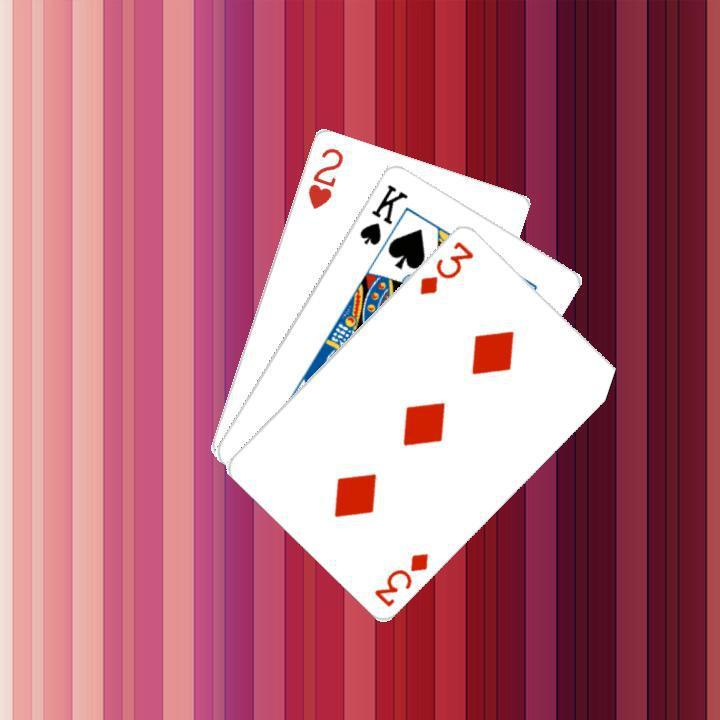2: (303, 143, 345, 211)
3: (415, 235, 476, 297), (369, 548, 431, 609)
K: (354, 179, 410, 247)
